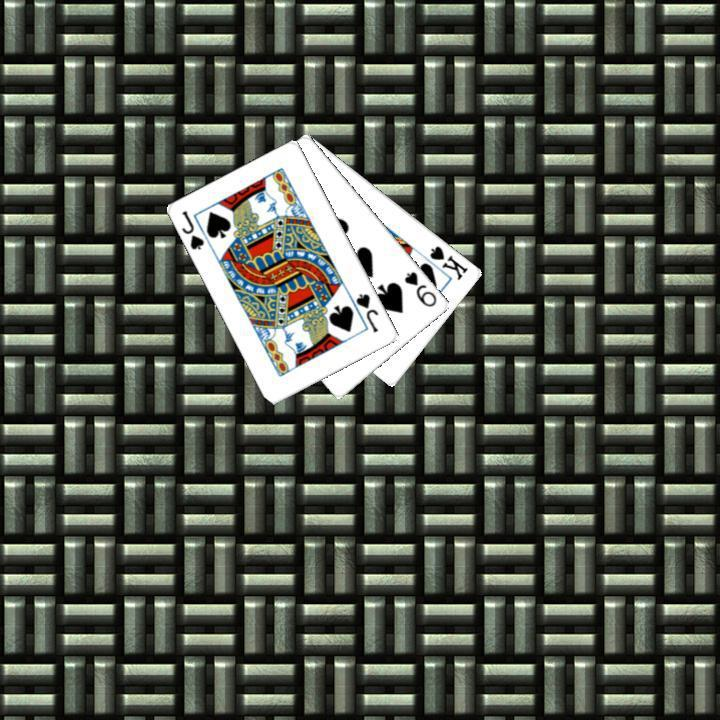9: (400, 267, 439, 309)
J: (352, 289, 381, 335), (178, 206, 207, 252)
K: (425, 241, 470, 282)
